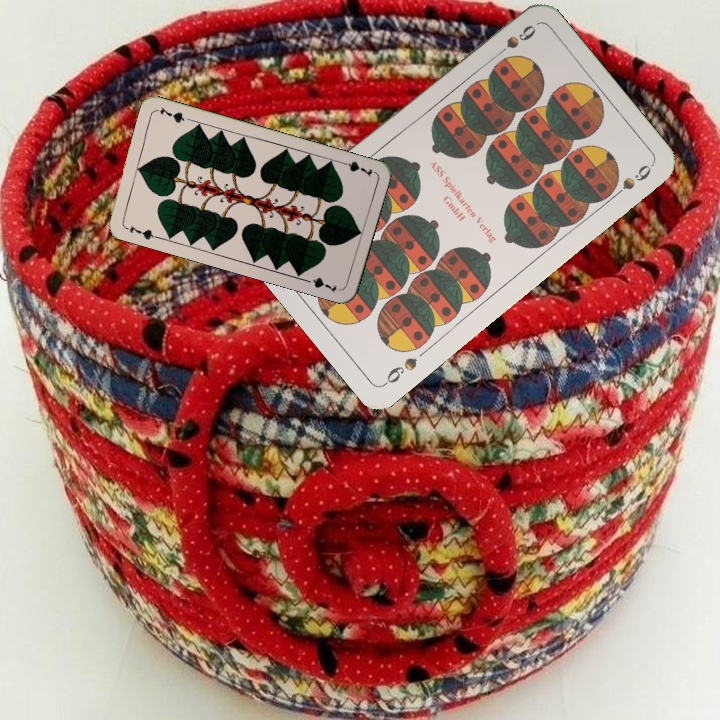G7: (336, 157, 375, 179), (121, 221, 160, 242)
S9: (488, 20, 539, 63), (379, 353, 420, 389)
